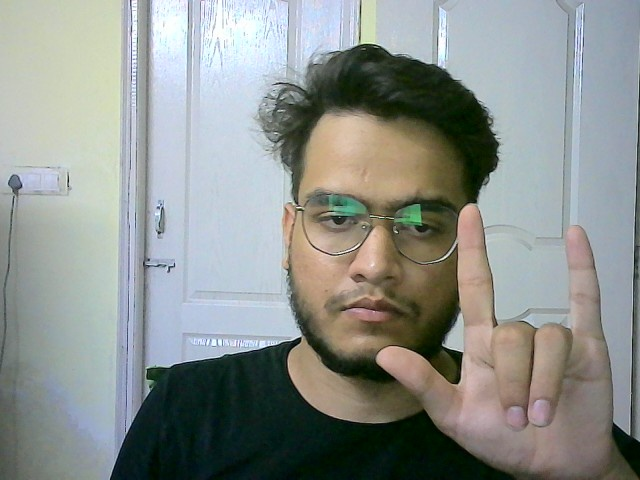I Love You: (390, 197, 628, 480)
